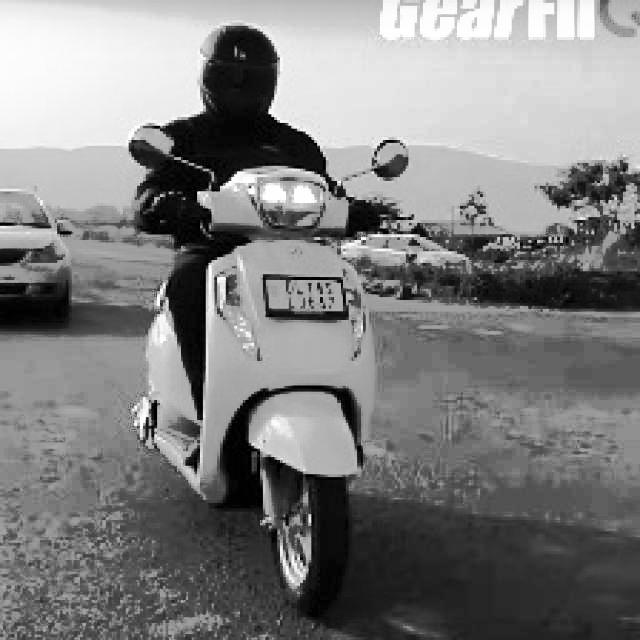Bike: (140, 125, 424, 599)
